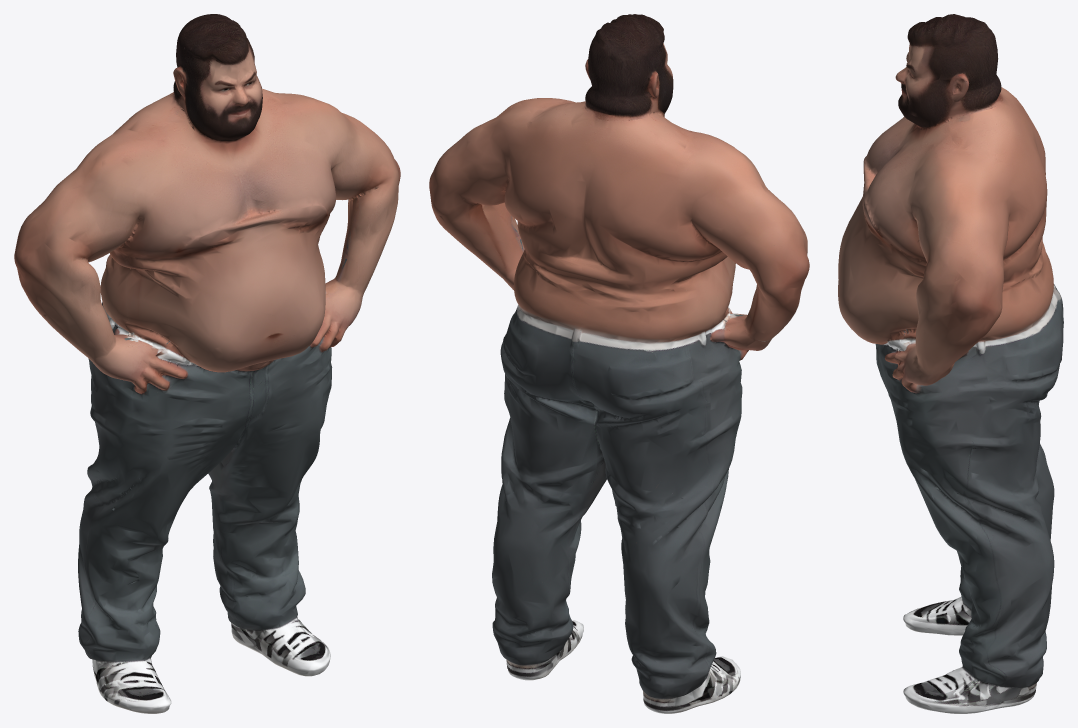
3 views of the same model, side by side, from view 1: azimuth 30°, elevation 25°; view 2: azimuth 150°, elevation 25°; view 3: azimuth 270°, elevation 25° (orthographic).
Size of the model in its own units: 1.15 by 1.91 by 0.6037.
1 material, 1 textured.
